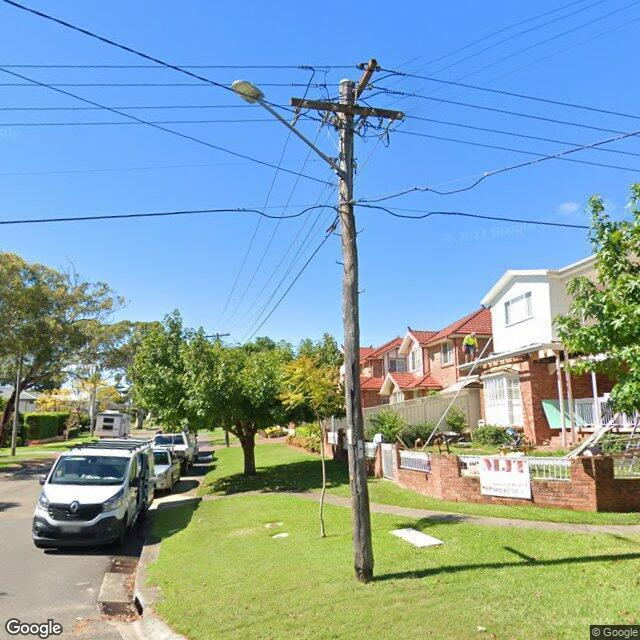crossarm: (327, 60, 379, 126), (290, 96, 406, 120), (202, 332, 232, 339)
streetlight: (232, 78, 348, 180)
timber-pole: (339, 78, 375, 582), (10, 349, 23, 455)
